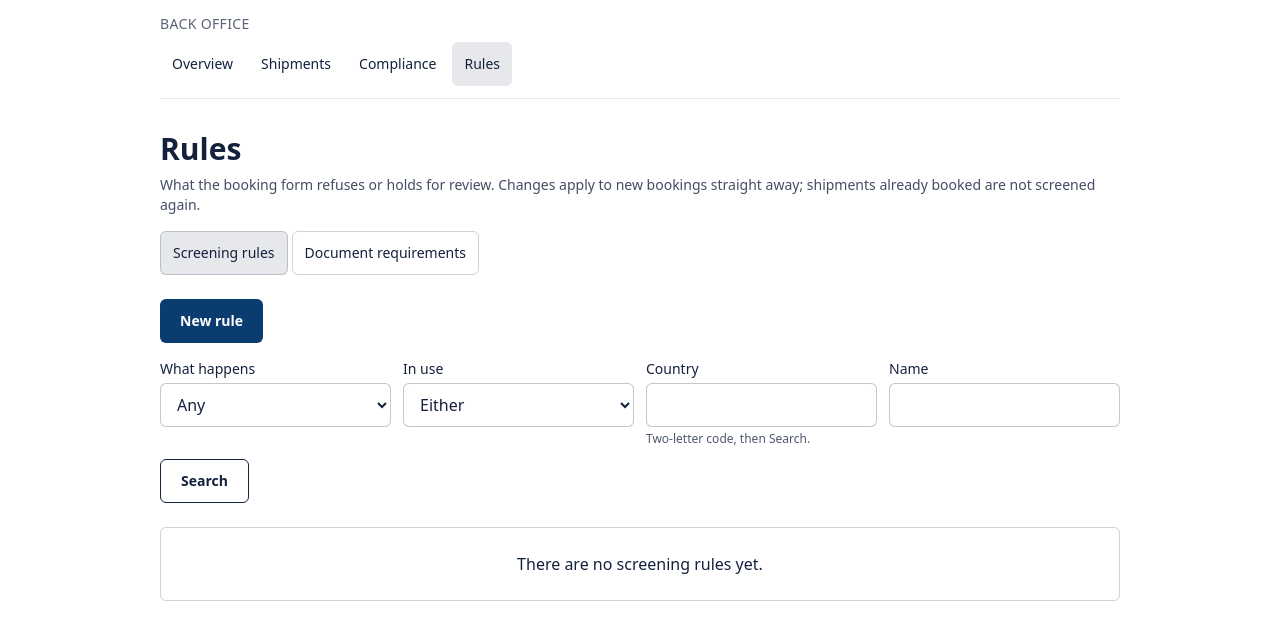
Test: screening rules screen › shows the API's own words when it refuses, and keeps what was typed
Step 1. Click the button "New rule" → [212, 321], box [160, 299, 263, 343]
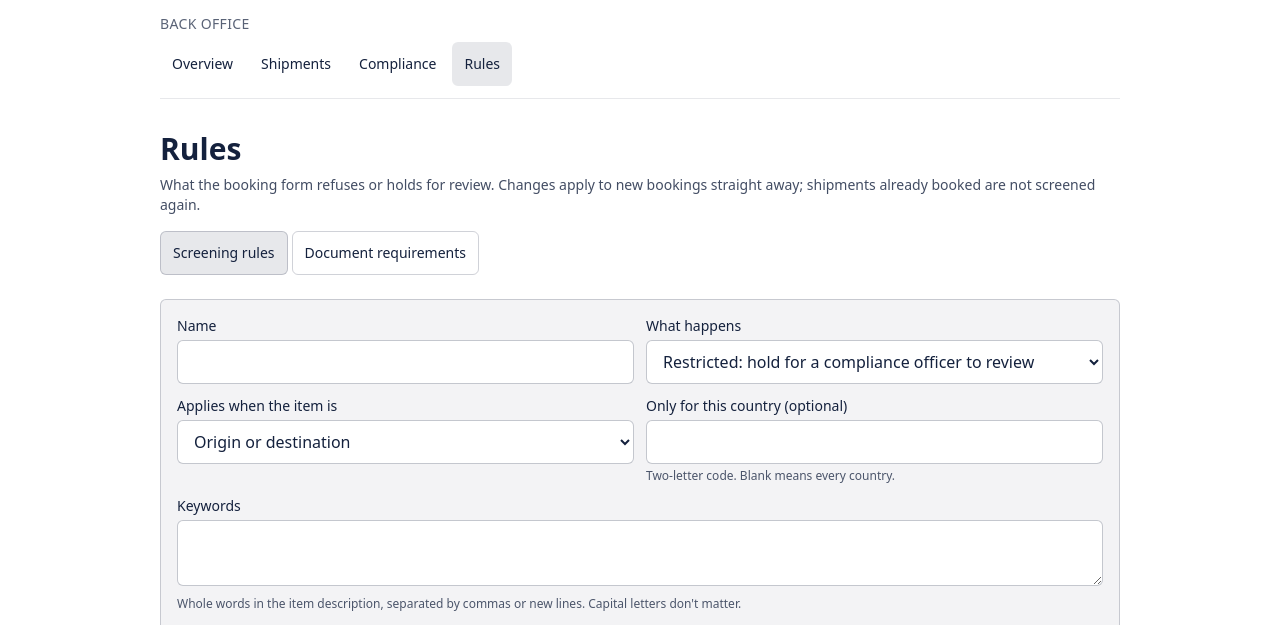
Step 2. Type "Batteries" into the field labelled "Name" → [406, 362], box [177, 340, 634, 384]
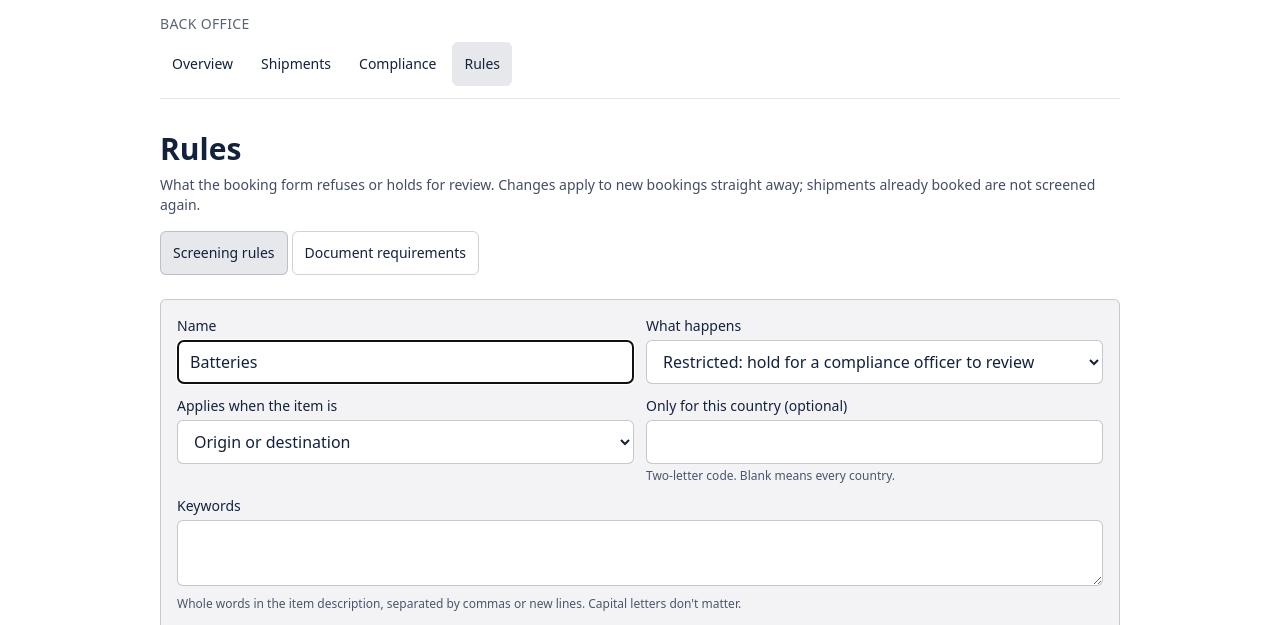
Step 3. Type "battery" into the text box labelled "Keywords" → [640, 553], box [177, 520, 1103, 586]
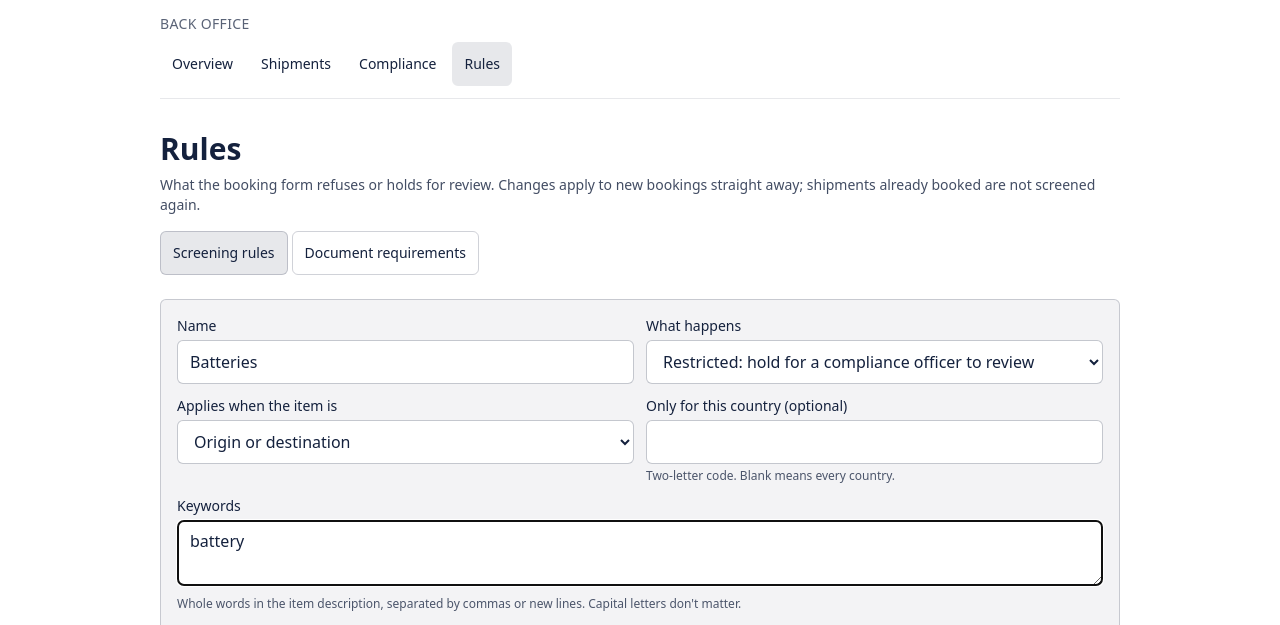
Step 4. Type "ZZ" into the field labelled "Only for this country (optional)" → [874, 442], box [646, 420, 1103, 464]
(page scrolled)
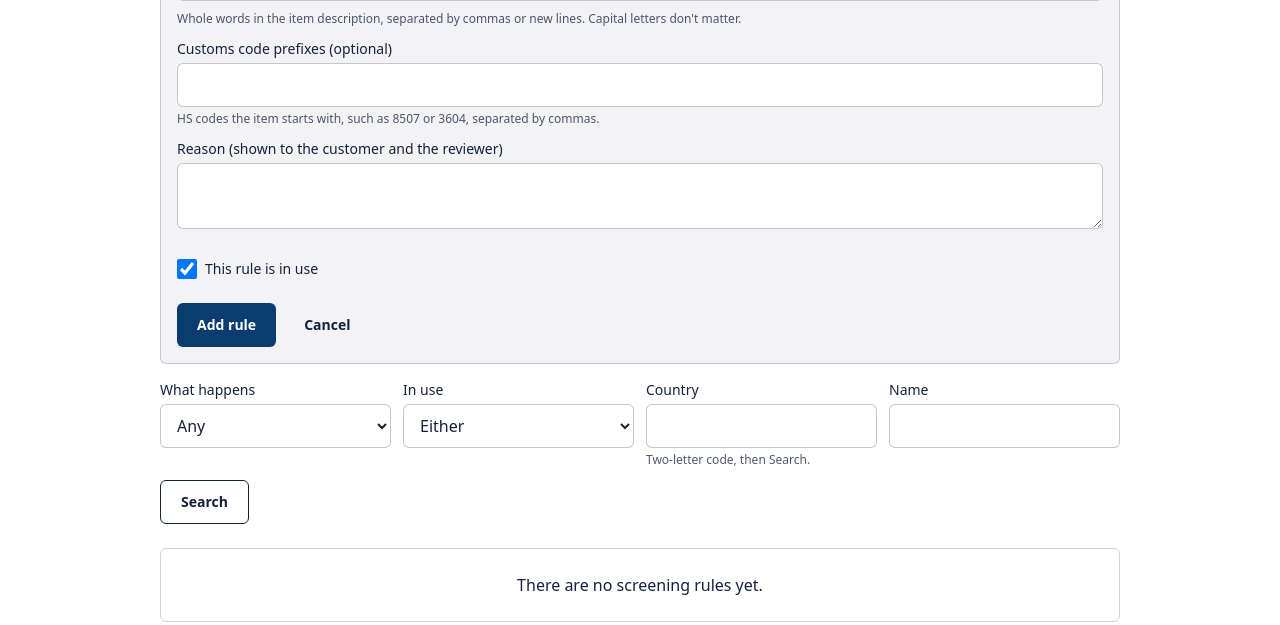
Step 5. Click the button "Add rule" → [227, 325], box [177, 303, 276, 347]
(page scrolled)
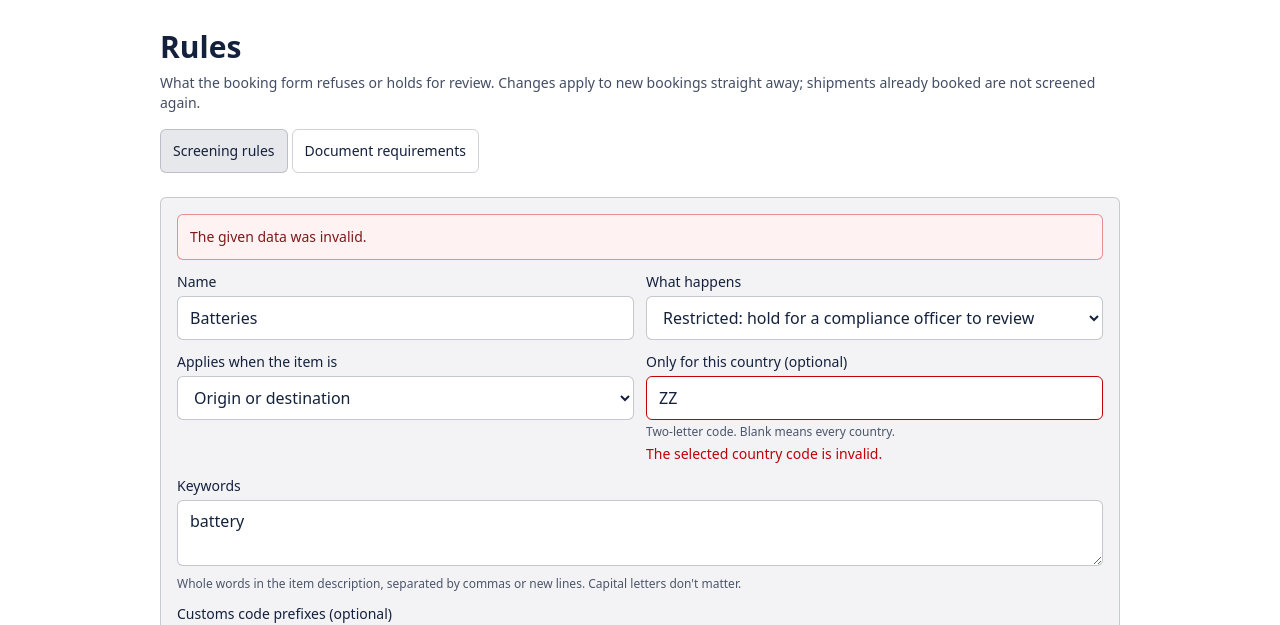
Result: the text "The selected country code is invalid." is shown at [646, 444, 882, 463]
